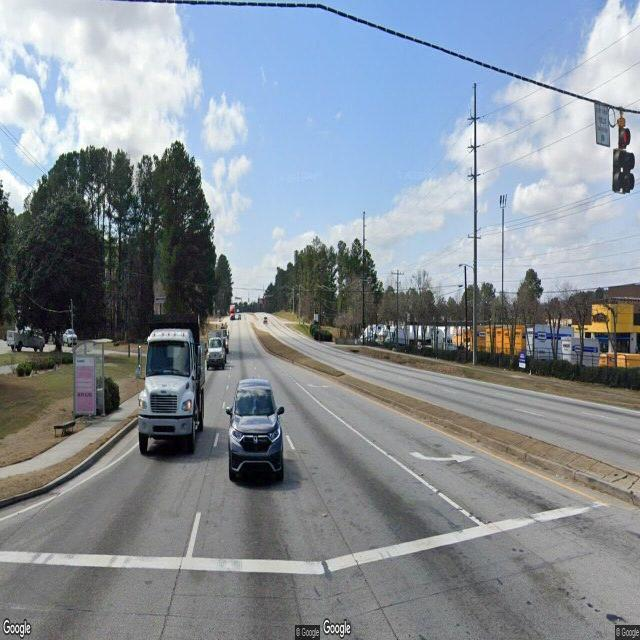seating: (54, 420, 76, 437)
shelter: (72, 338, 112, 427)
